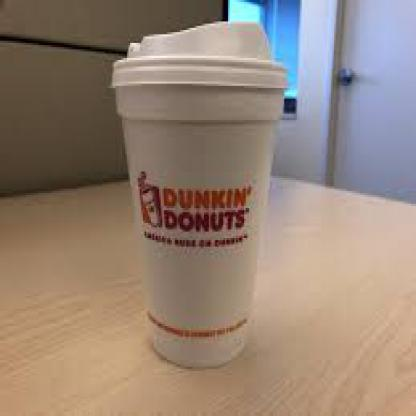paper: (114, 83, 283, 366)
